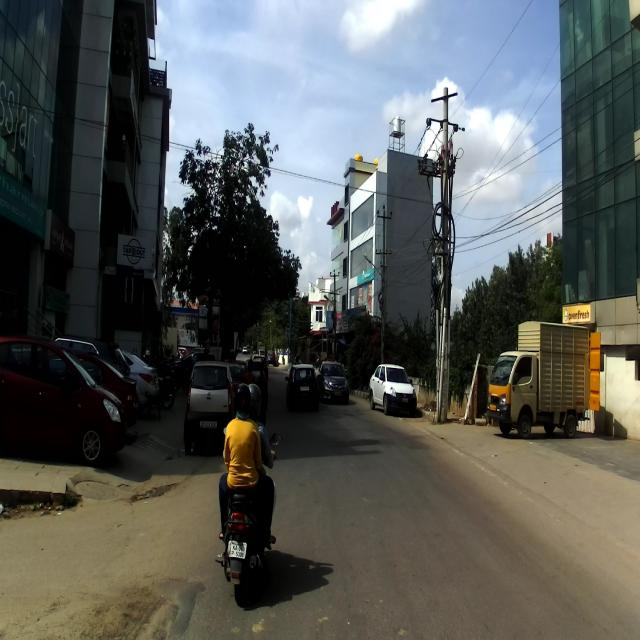Car: (0, 332, 124, 461)
Car_Ford: (284, 361, 317, 411)
Car_Honda: (319, 357, 351, 409)
Car_Maruti-Suzuki: (364, 359, 420, 416)
Car_TATA: (186, 361, 230, 458)
scooter: (216, 427, 282, 607)
truck: (486, 318, 604, 437)
